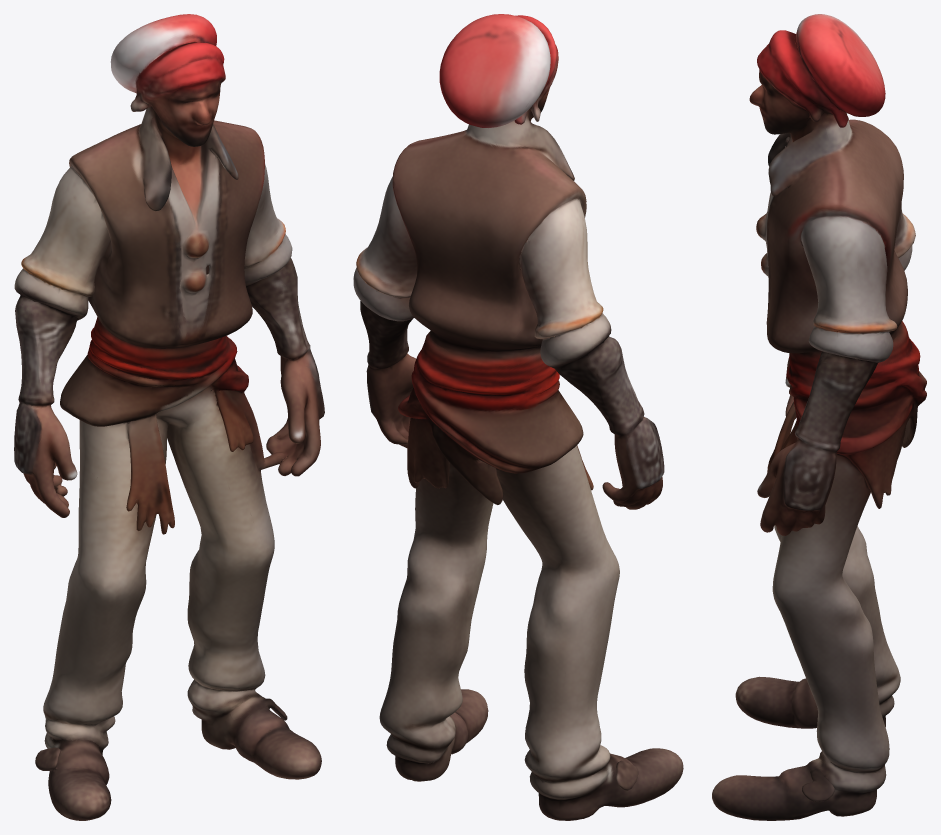
The model's file is nomad.glb.
3 views of the same model, side by side, from view 1: azimuth 30°, elevation 25°; view 2: azimuth 150°, elevation 25°; view 3: azimuth 270°, elevation 25° (orthographic).
Visible parts, largest first — view 1: geometry_0; view 2: geometry_0; view 3: geometry_0.
Boxes of the visible parts, bbox=[...] form: geometry_0: bbox=[14, 14, 324, 820]; geometry_0: bbox=[353, 14, 683, 820]; geometry_0: bbox=[712, 14, 926, 820].
Size of the model in its own units: 0.4038 by 1 by 0.2599.
Materials: 1 (1 with a texture image).
